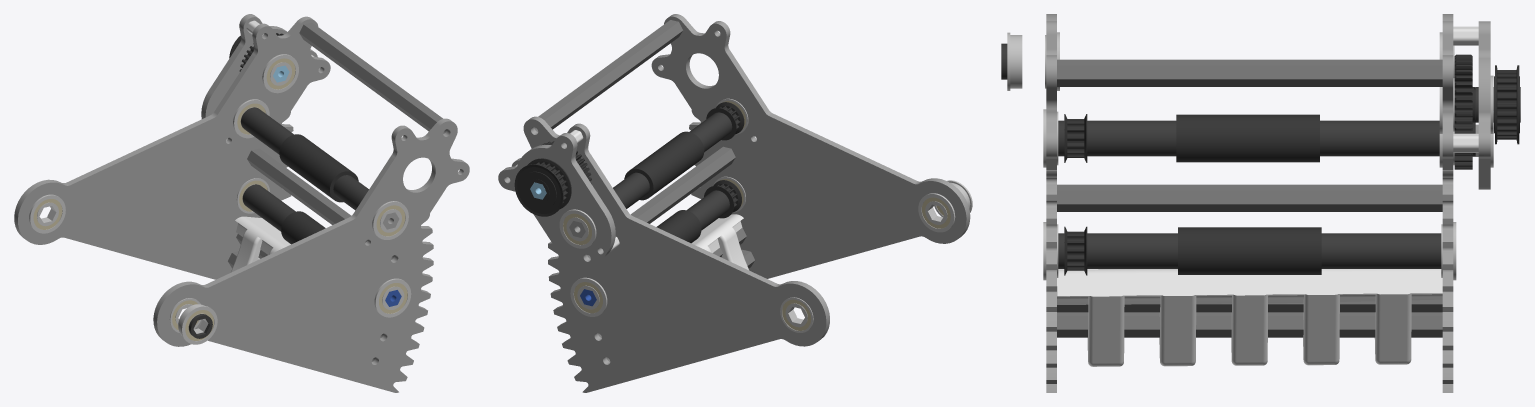
The picture shows the model from 3 angles, left to right: view 1: azimuth 30°, elevation 25°; view 2: azimuth 150°, elevation 25°; view 3: azimuth 270°, elevation 25°; orthographic projection. The views are drawn at different scales.
Parts seen in each view (by area): view 1: Spur gear (100 teeth) (×2), 1/2" Hex Bore Bearing (1.125" OD, 0.313" WD, Shielded, Flang (×8), Part 5 (×2), Sushi Roller (60A, 1/2" Hex Bore) (×4), 1/2" Hex Bore Custom Spacer (0.75" OD,2.5" L) (×2), Lil Trust, Part 8, 1/2" Hex Bore Custom Spacer (0.75" OD,1.896" L); view 2: Spur gear (100 teeth) (×2), Part 5 (×2), Part 8, 1/2" Hex Bore Bearing (1.125" OD, 0.313" WD, Shielded, Flang (×4), Sushi Roller (60A, 1/2" Hex Bore) (×4), 24t Aluminum Pulley (HTD 5mm, 9mm Wide, 1/2" Hex Bore), 1/2" Hex Bore Custom Spacer (0.75" OD,1.896" L) (×2), Lil Trust, 14t Custom HTD 5mm Pulley (0.354" Wide, 1/2" Hex Bore w/ TTB (×2), 1/2" Hex Bore Custom Spacer (0.75" OD,2.5" L); view 3: Part 5 (×4), Lil Trust, Sushi Roller (60A, 1/2" Hex Bore) (×6), 1/2" Hex Bore Custom Spacer (0.75" OD,2.5" L) (×2), Spur gear (100 teeth) (×2), 1/2" Hex Bore Custom Spacer (0.75" OD,1.896" L) (×2), Part 8, 14t Custom HTD 5mm Pulley (0.354" Wide, 1/2" Hex Bore w/ TTB (×2), 24t Aluminum Pulley (HTD 5mm, 9mm Wide, 1/2" Hex Bore), 40t Pocketed Steel Spur Gear (20 DP, 1/2" Hex Bore), Part 9 (×2), 1/2" Hex Bore Bearing (1.125" OD, 0.313" WD, Shielded, Flang.
Part boxes in pixels (bbox=[...]): Spur gear (100 teeth) (×2): bbox=[14, 16, 469, 392]; 1/2" Hex Bore Bearing (1.125" OD, 0.313" WD, Shielded, Flang (×8): bbox=[29, 54, 411, 344]; Part 5 (×2): bbox=[247, 22, 446, 259]; Sushi Roller (60A, 1/2" Hex Bore) (×4): bbox=[279, 134, 358, 244]; 1/2" Hex Bore Custom Spacer (0.75" OD,2.5" L) (×2): bbox=[241, 107, 295, 231]; Lil Trust: bbox=[231, 216, 290, 272]; Part 8: bbox=[201, 14, 317, 118]; 1/2" Hex Bore Custom Spacer (0.75" OD,1.896" L): bbox=[333, 175, 368, 210]; Spur gear (100 teeth) (×2): bbox=[511, 14, 970, 392]; Part 5 (×2): bbox=[534, 20, 735, 258]; Part 8: bbox=[498, 133, 615, 257]; 1/2" Hex Bore Bearing (1.125" OD, 0.313" WD, Shielded, Flang (×4): bbox=[559, 193, 955, 332]; Sushi Roller (60A, 1/2" Hex Bore) (×4): bbox=[624, 131, 704, 243]; 24t Aluminum Pulley (HTD 5mm, 9mm Wide, 1/2" Hex Bore): bbox=[514, 158, 571, 216]; 1/2" Hex Bore Custom Spacer (0.75" OD,1.896" L) (×2): bbox=[687, 112, 732, 230]; Lil Trust: bbox=[691, 214, 749, 270]; 14t Custom HTD 5mm Pulley (0.354" Wide, 1/2" Hex Bore w/ TTB (×2): bbox=[704, 102, 744, 218]; 1/2" Hex Bore Custom Spacer (0.75" OD,2.5" L): bbox=[613, 172, 649, 208]; Part 5 (×4): bbox=[1057, 59, 1442, 337]; Lil Trust: bbox=[1057, 269, 1442, 366]; Sushi Roller (60A, 1/2" Hex Bore) (×6): bbox=[1176, 114, 1321, 274]; 1/2" Hex Bore Custom Spacer (0.75" OD,2.5" L) (×2): bbox=[1320, 120, 1441, 268]; Spur gear (100 teeth) (×2): bbox=[1046, 14, 1453, 392]; 1/2" Hex Bore Custom Spacer (0.75" OD,1.896" L) (×2): bbox=[1087, 120, 1177, 268]; Part 8: bbox=[1478, 21, 1490, 189]; 14t Custom HTD 5mm Pulley (0.354" Wide, 1/2" Hex Bore w/ TTB (×2): bbox=[1064, 114, 1087, 275]; 24t Aluminum Pulley (HTD 5mm, 9mm Wide, 1/2" Hex Bore): bbox=[1493, 65, 1520, 144]; 40t Pocketed Steel Spur Gear (20 DP, 1/2" Hex Bore): bbox=[1454, 54, 1475, 154]; Part 9 (×2): bbox=[1453, 26, 1478, 152]; 1/2" Hex Bore Bearing (1.125" OD, 0.313" WD, Shielded, Flang: bbox=[1007, 32, 1022, 90].
Bounding box in the file's own units: 0.2728 × 0.219 × 0.2754.
